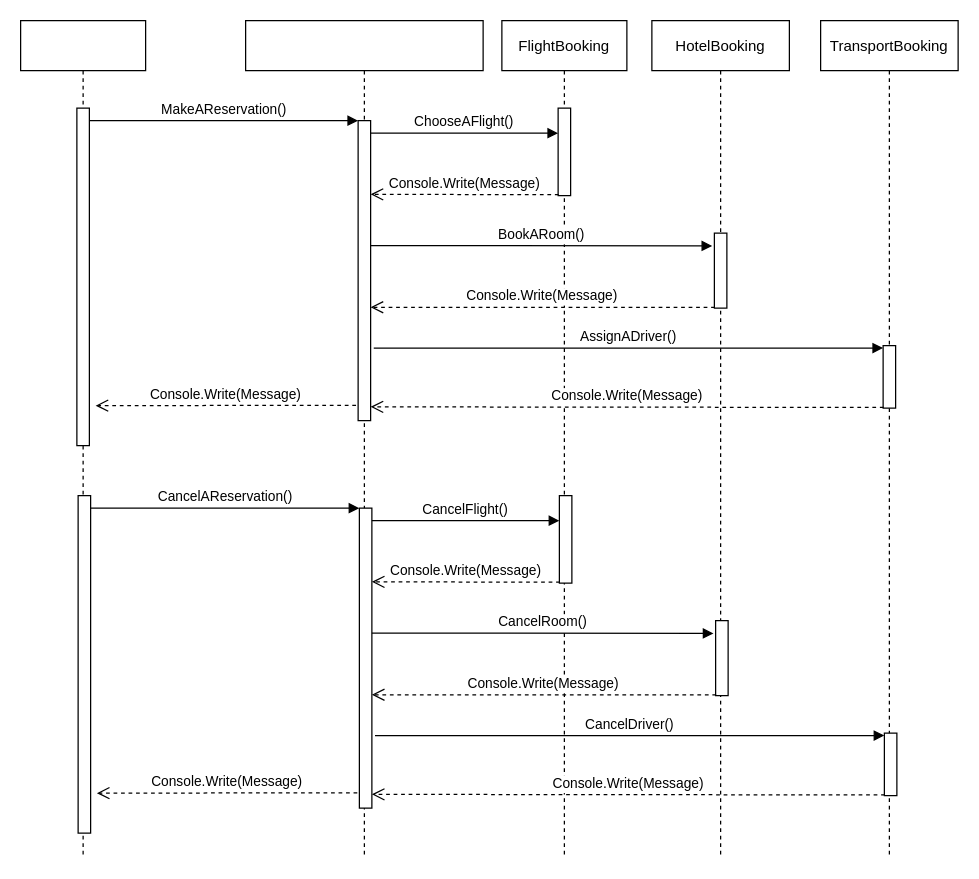
Image size: 979x879. Some labels were removed from this diagram. The shapes that lost their labels are listed below. From the top down, each one's centre as x and y in pixels, then its label:
At pixel 82 438: "TravelAgency".
At pixel 363 438: "ReservationSystemFacade".
